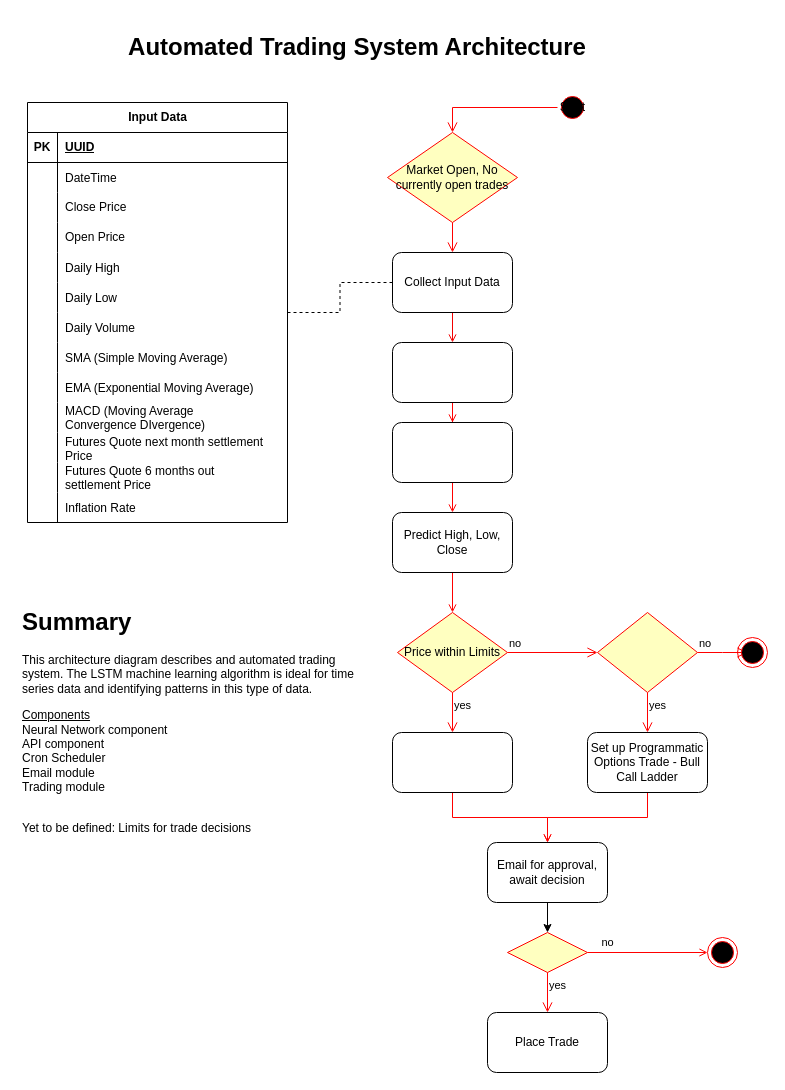
This 785x1090 diagram has some shape labels left out. Here are the shapes that lost their labels. From the top down, the box of each, then its label:
(392, 342, 512, 402): Transformation - Inflation Adjustment
(392, 422, 512, 482): LSTM Neural Network
(596, 612, 698, 692): Price Significantly Significantly Above Limits
(392, 732, 512, 792): Set up Programmatic Options Trade - Iron Condor
(506, 932, 588, 972): Trade Approved
